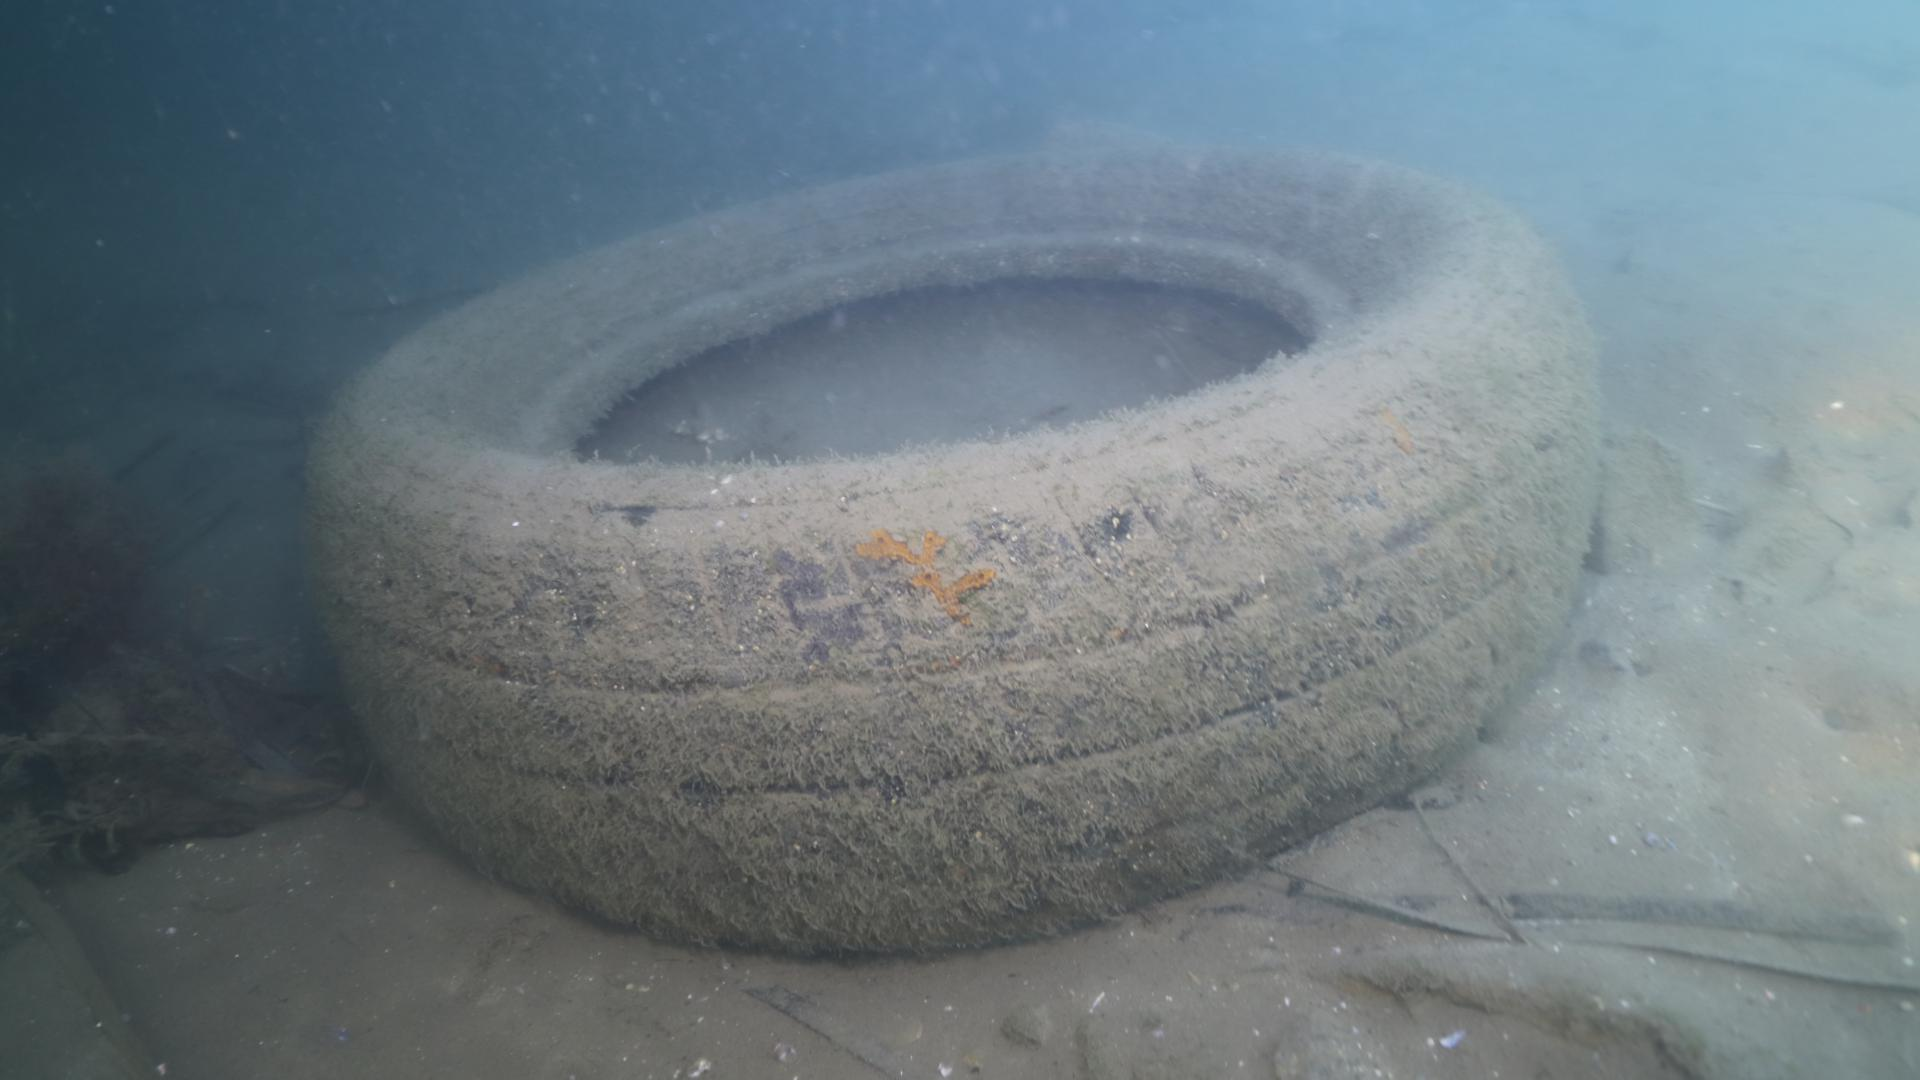tire: (310, 131, 1611, 965)
